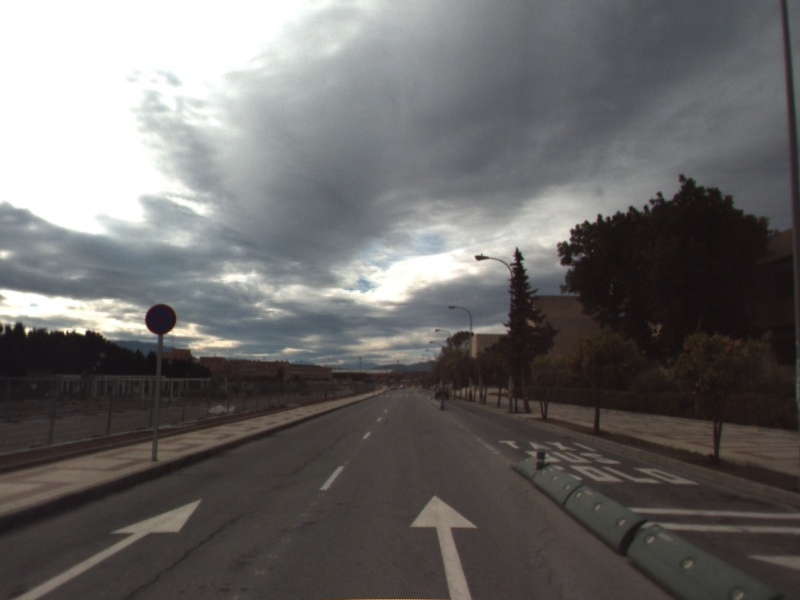STRAIGHT: (9, 497, 204, 600), (407, 492, 480, 600)
